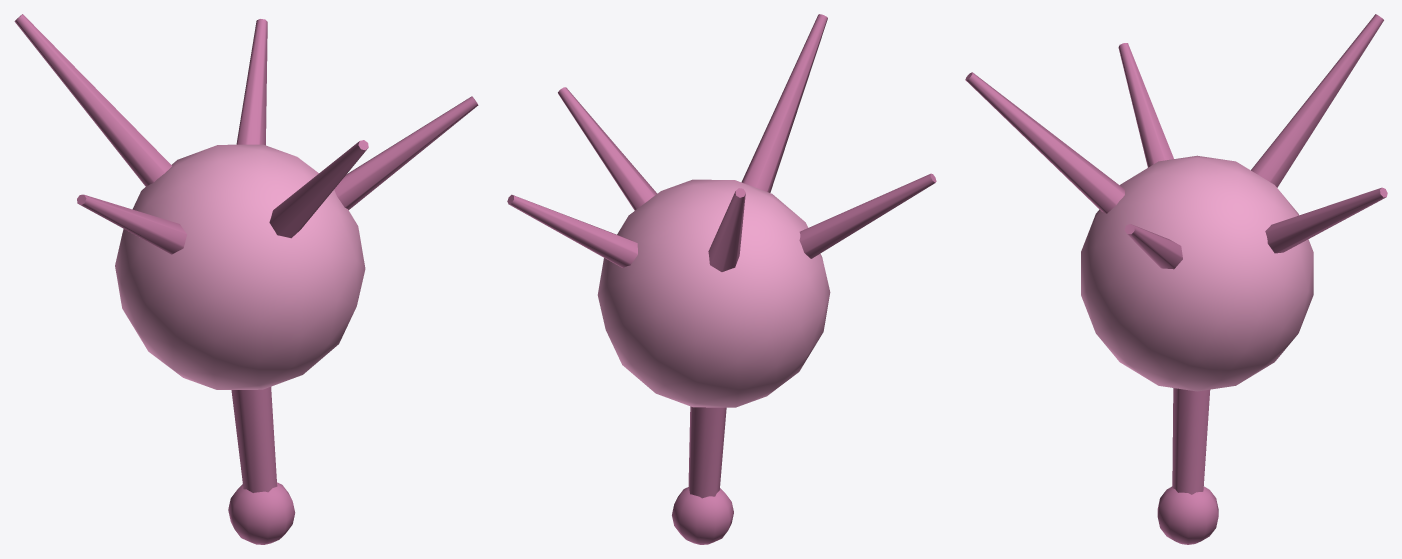
The model's file is neuron.gltf.
The picture shows the model from 3 angles, left to right: view 1: azimuth 30°, elevation 25°; view 2: azimuth 150°, elevation 25°; view 3: azimuth 270°, elevation 25°; orthographic projection. The views are drawn at different scales.
Visible parts, largest first — view 1: soma, dendrite-4, axon, dendrite-1, terminal, dendrite-2, dendrite-5, dendrite-3; view 2: soma, dendrite-2, dendrite-3, axon, dendrite-5, dendrite-1, terminal, dendrite-4; view 3: soma, dendrite-4, dendrite-2, axon, terminal, dendrite-5, dendrite-3, dendrite-1.
Boxes of the visible parts, x1=… form: soma: x1=115, y1=144, x2=365, y2=389; dendrite-4: x1=14, y1=14, x2=171, y2=186; axon: x1=231, y1=387, x2=277, y2=492; dendrite-1: x1=334, y1=96, x2=478, y2=209; terminal: x1=228, y1=482, x2=295, y2=544; dendrite-2: x1=269, y1=140, x2=368, y2=238; dendrite-5: x1=236, y1=19, x2=267, y2=145; dendrite-3: x1=77, y1=194, x2=186, y2=254; soma: x1=597, y1=179, x2=830, y2=407; dendrite-2: x1=741, y1=14, x2=827, y2=192; dendrite-3: x1=799, y1=173, x2=936, y2=258; axon: x1=688, y1=406, x2=726, y2=498; dendrite-5: x1=507, y1=194, x2=637, y2=267; dendrite-1: x1=558, y1=87, x2=657, y2=210; terminal: x1=672, y1=487, x2=733, y2=544; dendrite-4: x1=708, y1=188, x2=745, y2=271; soma: x1=1081, y1=155, x2=1313, y2=391; dendrite-4: x1=1251, y1=14, x2=1383, y2=187; dendrite-2: x1=965, y1=72, x2=1124, y2=213; axon: x1=1172, y1=388, x2=1210, y2=494; terminal: x1=1157, y1=486, x2=1218, y2=544; dendrite-5: x1=1265, y1=187, x2=1387, y2=253; dendrite-3: x1=1118, y1=43, x2=1173, y2=167; dendrite-1: x1=1124, y1=224, x2=1182, y2=269.
Size of the model in its own units: 0.9656 by 1.12 by 0.9256.
